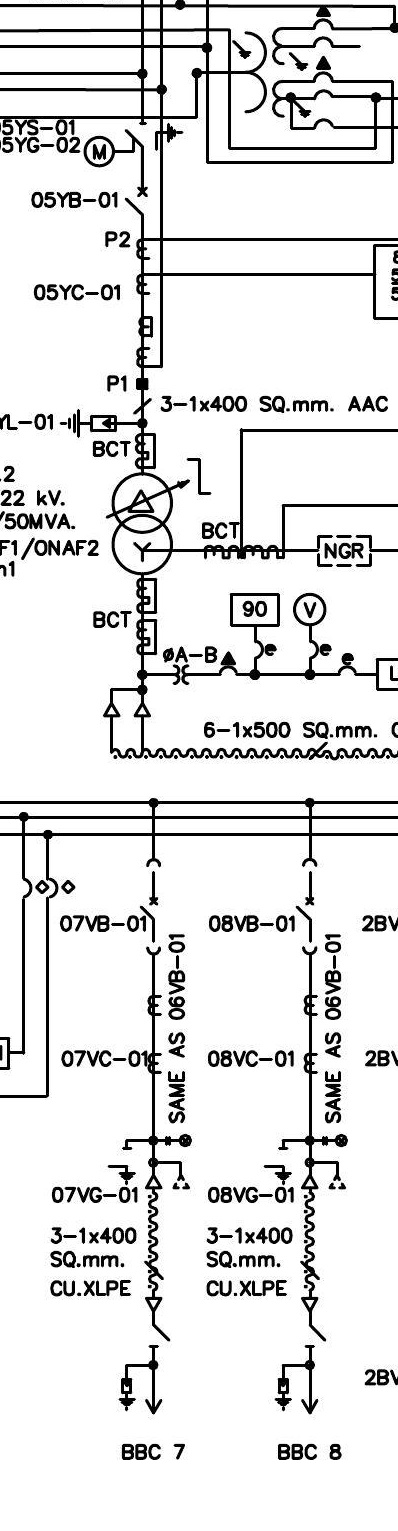11522_tx_dyn1: (110, 471, 174, 576)
115_3ways_ds_w_motor: (83, 122, 184, 169)
115_breaker: (133, 187, 157, 217)
115_la: (59, 408, 118, 439)
115_vt_1p: (231, 5, 335, 119)
22_breaker: (295, 857, 319, 956), (139, 857, 162, 956)
22_ds_la_out: (117, 1323, 171, 1415), (274, 1324, 328, 1415)
22_gs: (262, 1146, 293, 1186), (107, 1146, 137, 1186)
22_ll: (164, 1133, 193, 1148), (320, 1133, 349, 1148)
terminator_double: (102, 687, 152, 718)
terminator_single: (144, 1296, 163, 1313), (300, 1296, 319, 1313)
terminator_w_future: (144, 1160, 191, 1191), (300, 1160, 347, 1191)
v_m: (292, 592, 327, 628)
